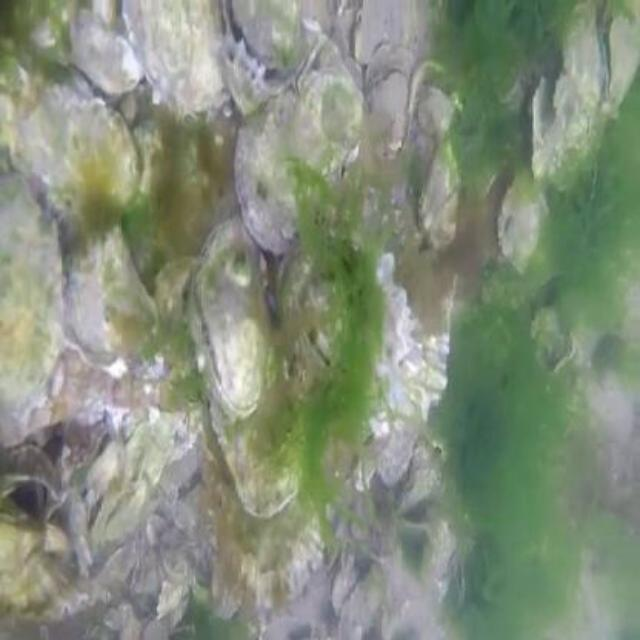Oyster-Closed: (0, 62, 152, 240), (233, 64, 363, 251), (0, 169, 64, 442), (187, 218, 272, 422), (219, 461, 326, 604), (211, 366, 307, 517), (61, 225, 159, 361), (0, 497, 110, 618), (122, 0, 233, 116), (497, 172, 555, 283), (71, 15, 141, 91), (417, 142, 459, 249), (220, 36, 273, 116), (366, 68, 410, 153), (366, 46, 414, 90), (394, 467, 436, 514), (415, 90, 454, 137), (293, 36, 323, 97), (155, 579, 187, 619), (137, 613, 170, 638), (83, 621, 111, 638)
Oyster-Open: (532, 0, 605, 187), (221, 0, 305, 95), (364, 253, 413, 372), (600, 2, 638, 103), (82, 427, 117, 491), (304, 321, 332, 370), (122, 552, 140, 591)
